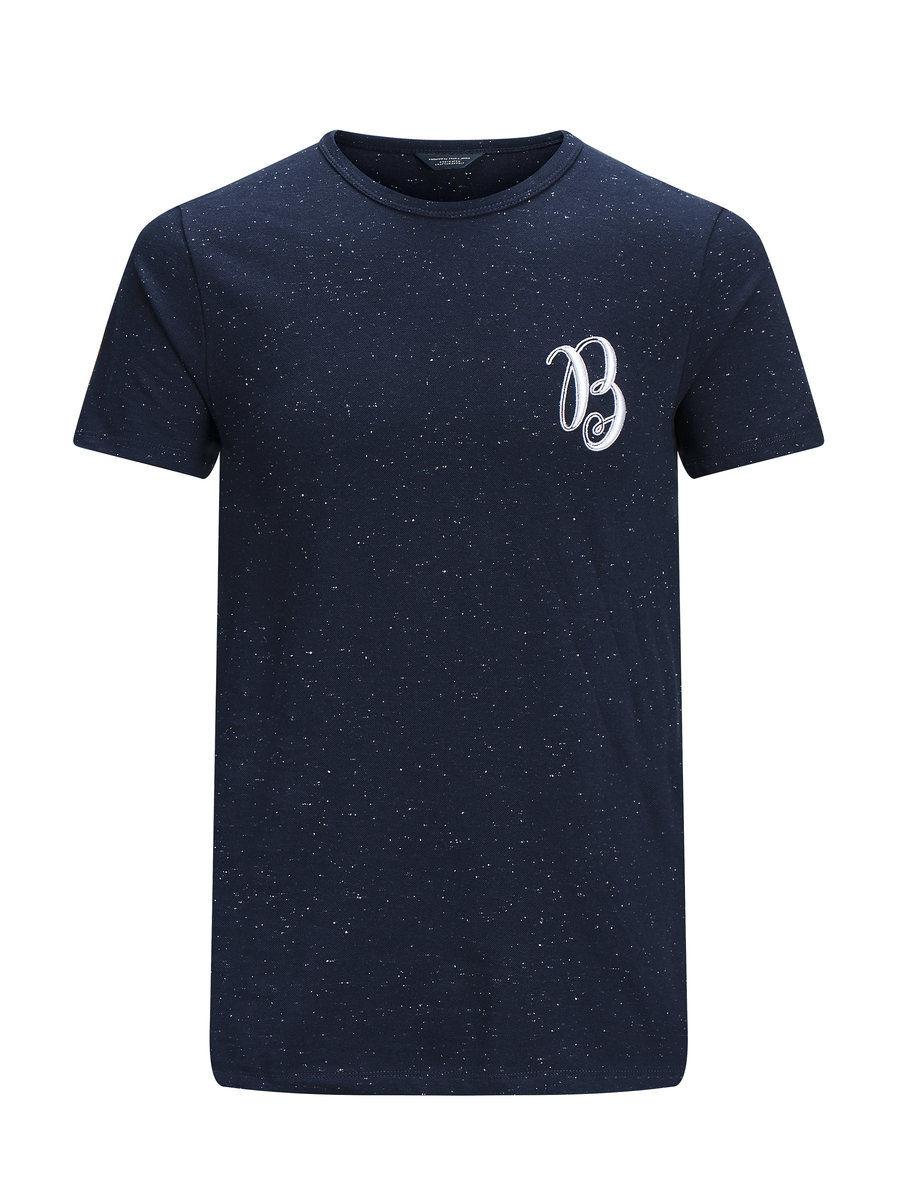teeshirt: (31, 123, 838, 1140)
